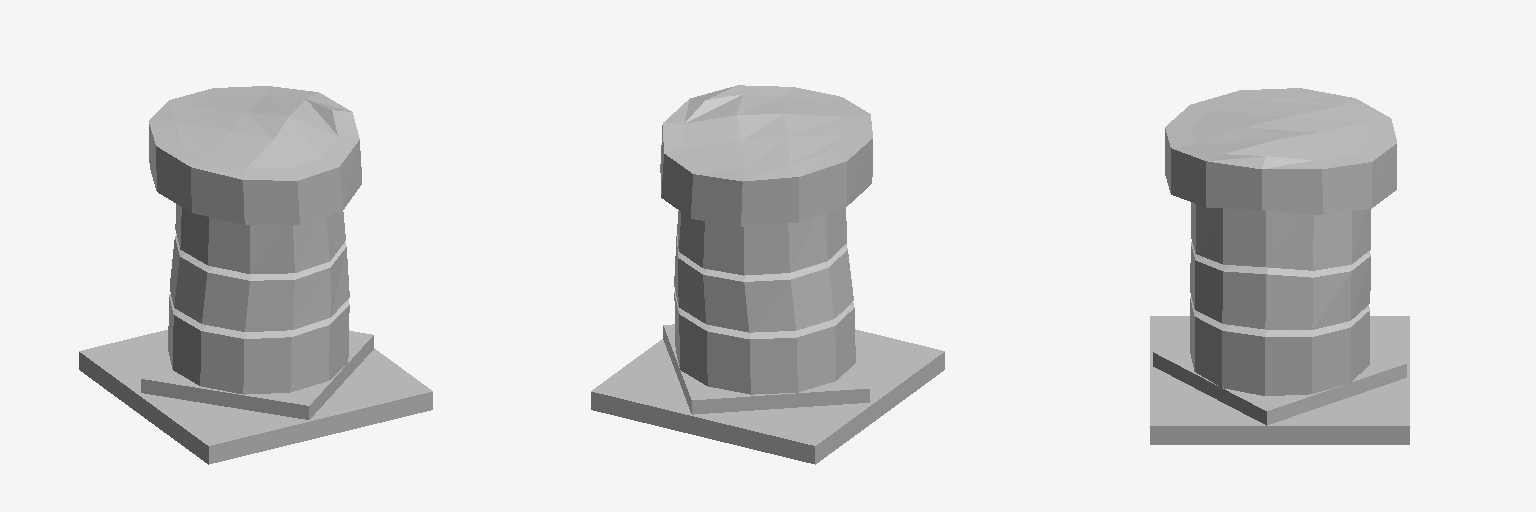
The model's file is Pillar4 (1).obj.
The picture shows the model from 3 angles: view 1: azimuth 30°, elevation 25°; view 2: azimuth 150°, elevation 25°; view 3: azimuth 270°, elevation 25°; orthographic projection.
Parts seen in each view (by area): view 1: Plane.001; view 2: Plane.001; view 3: Plane.001.
Part boxes in pixels (left/top/right/bottom): Plane.001: left=79, top=86, right=432, bottom=464; Plane.001: left=591, top=85, right=944, bottom=464; Plane.001: left=1150, top=88, right=1409, bottom=444.
Size of the model in its own units: 2 by 2.28 by 2.